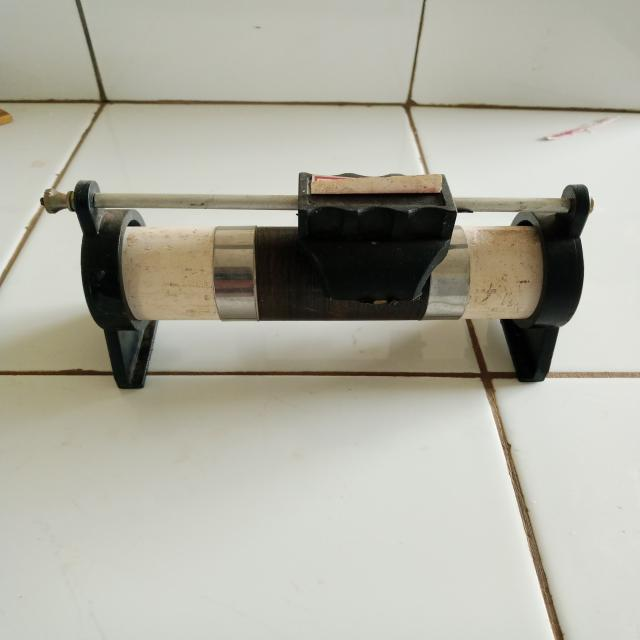Rheostat: (18, 176, 629, 407)
